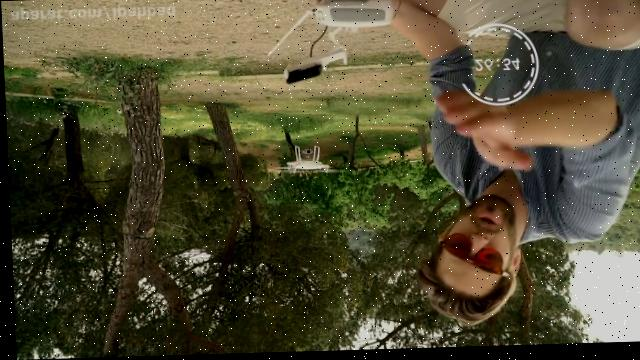drone: (271, 145, 337, 179)
